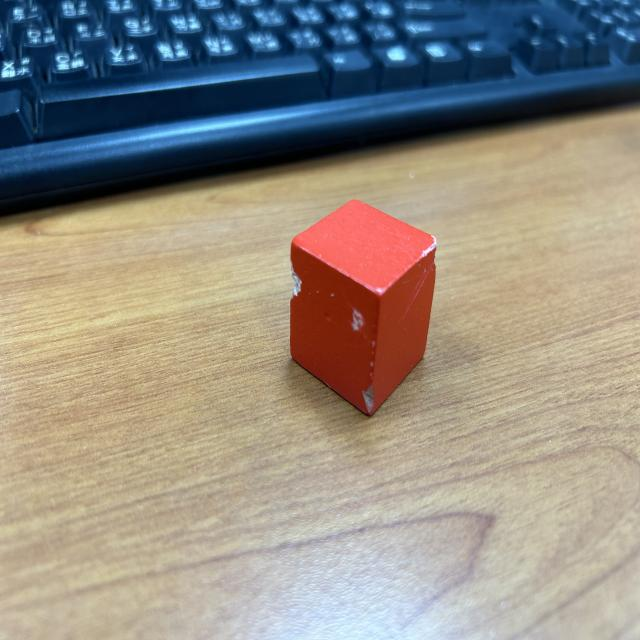broken: (290, 200, 436, 418)
